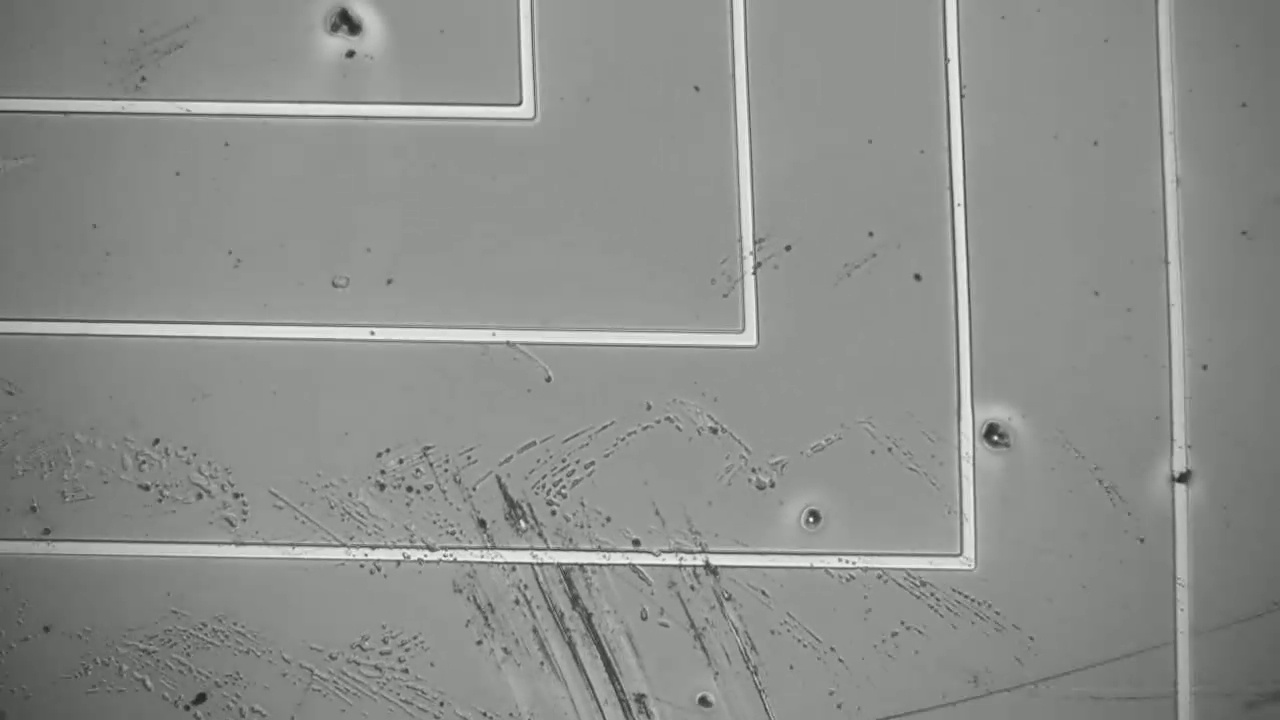scratch: (887, 598, 1276, 719), (506, 505, 629, 715), (696, 551, 778, 718)
